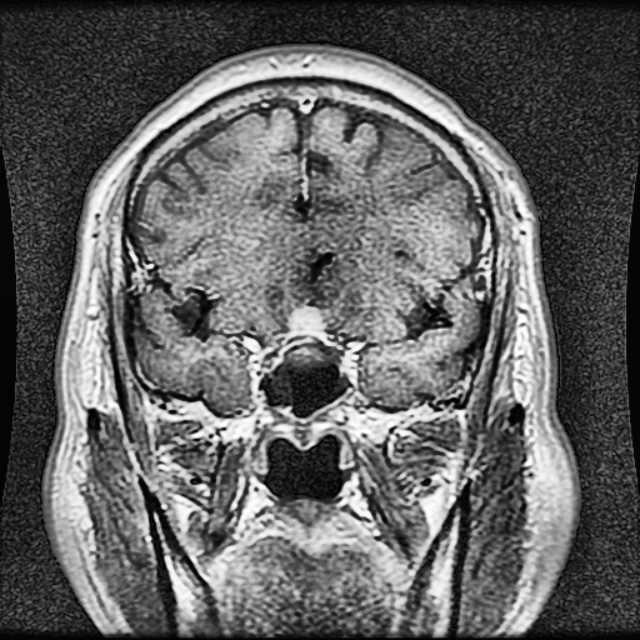Pituitary: (288, 308, 323, 365)
